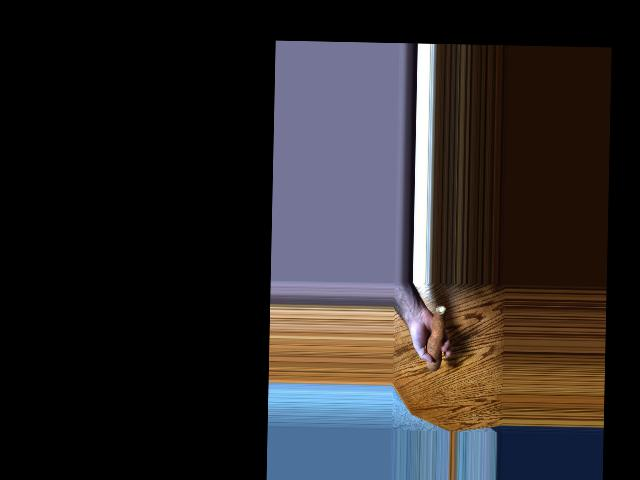sweet_potato: (424, 310, 447, 367)
